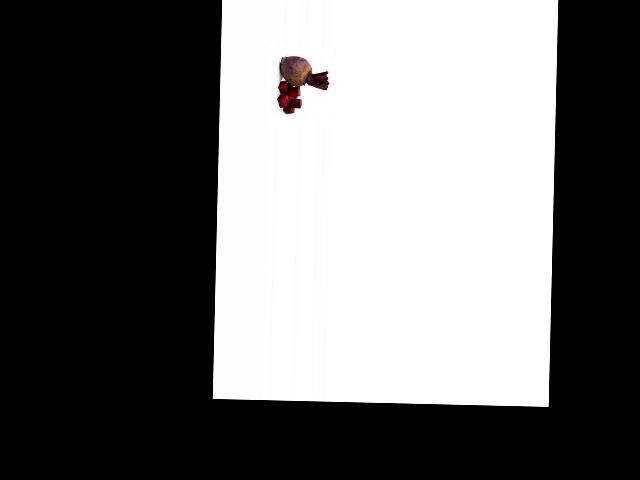beet: (279, 56, 329, 90)
